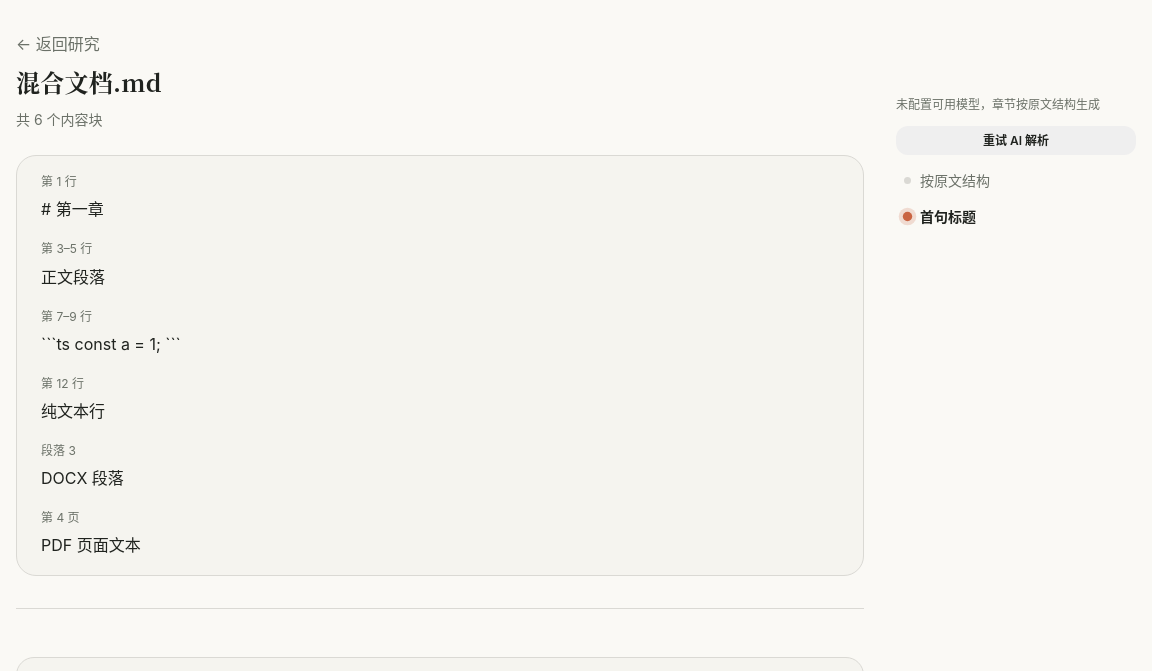
Test: 阅读视图章节解析（T03） › 规则降级状态如实呈现，重试后替换为 AI 章节
Expected: the text "未配置可用模型，章节按原文结构生成" is shown, top-left (896, 96), bottom-right (1136, 114)
Click the button with test id "chapter-retry" at (1016, 141), box top-left (896, 126), bottom-right (1136, 155)
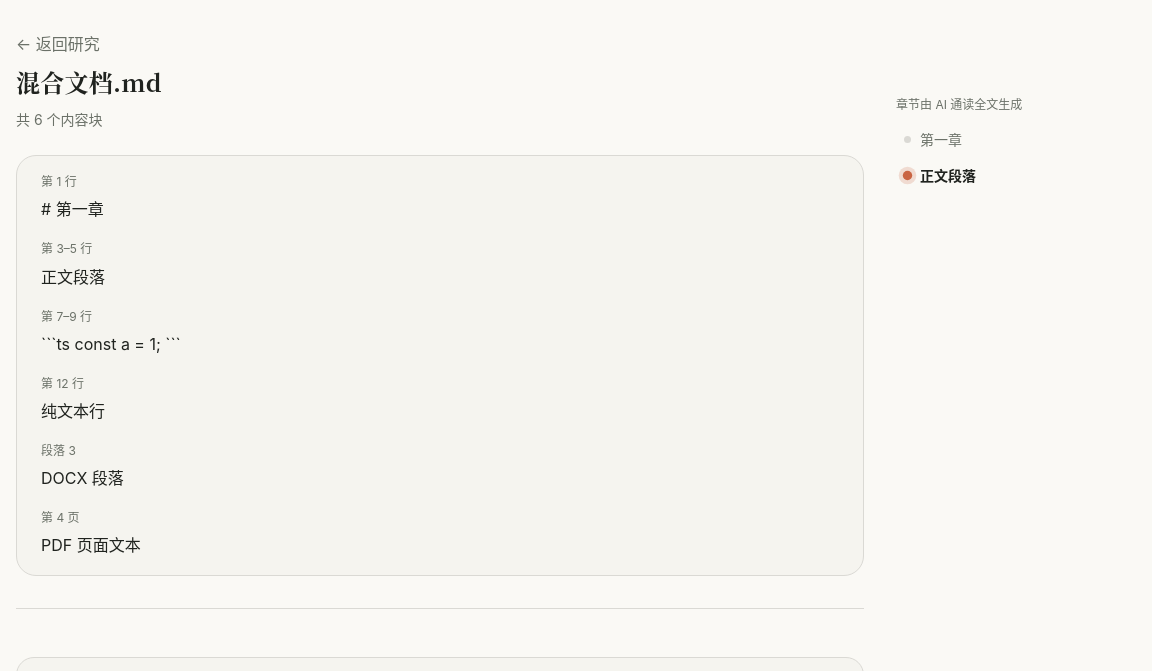
Expected: the text "章节由 AI 通读全文生成" is shown, top-left (896, 97), bottom-right (1022, 112)
